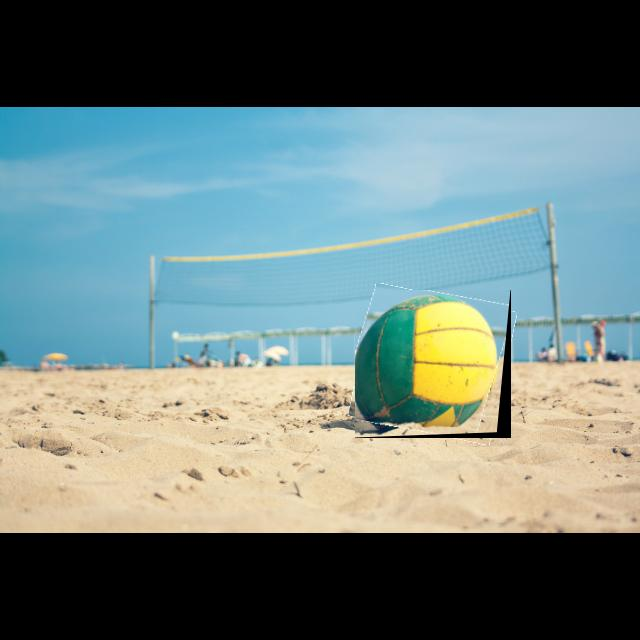Football: (355, 290, 511, 438)
